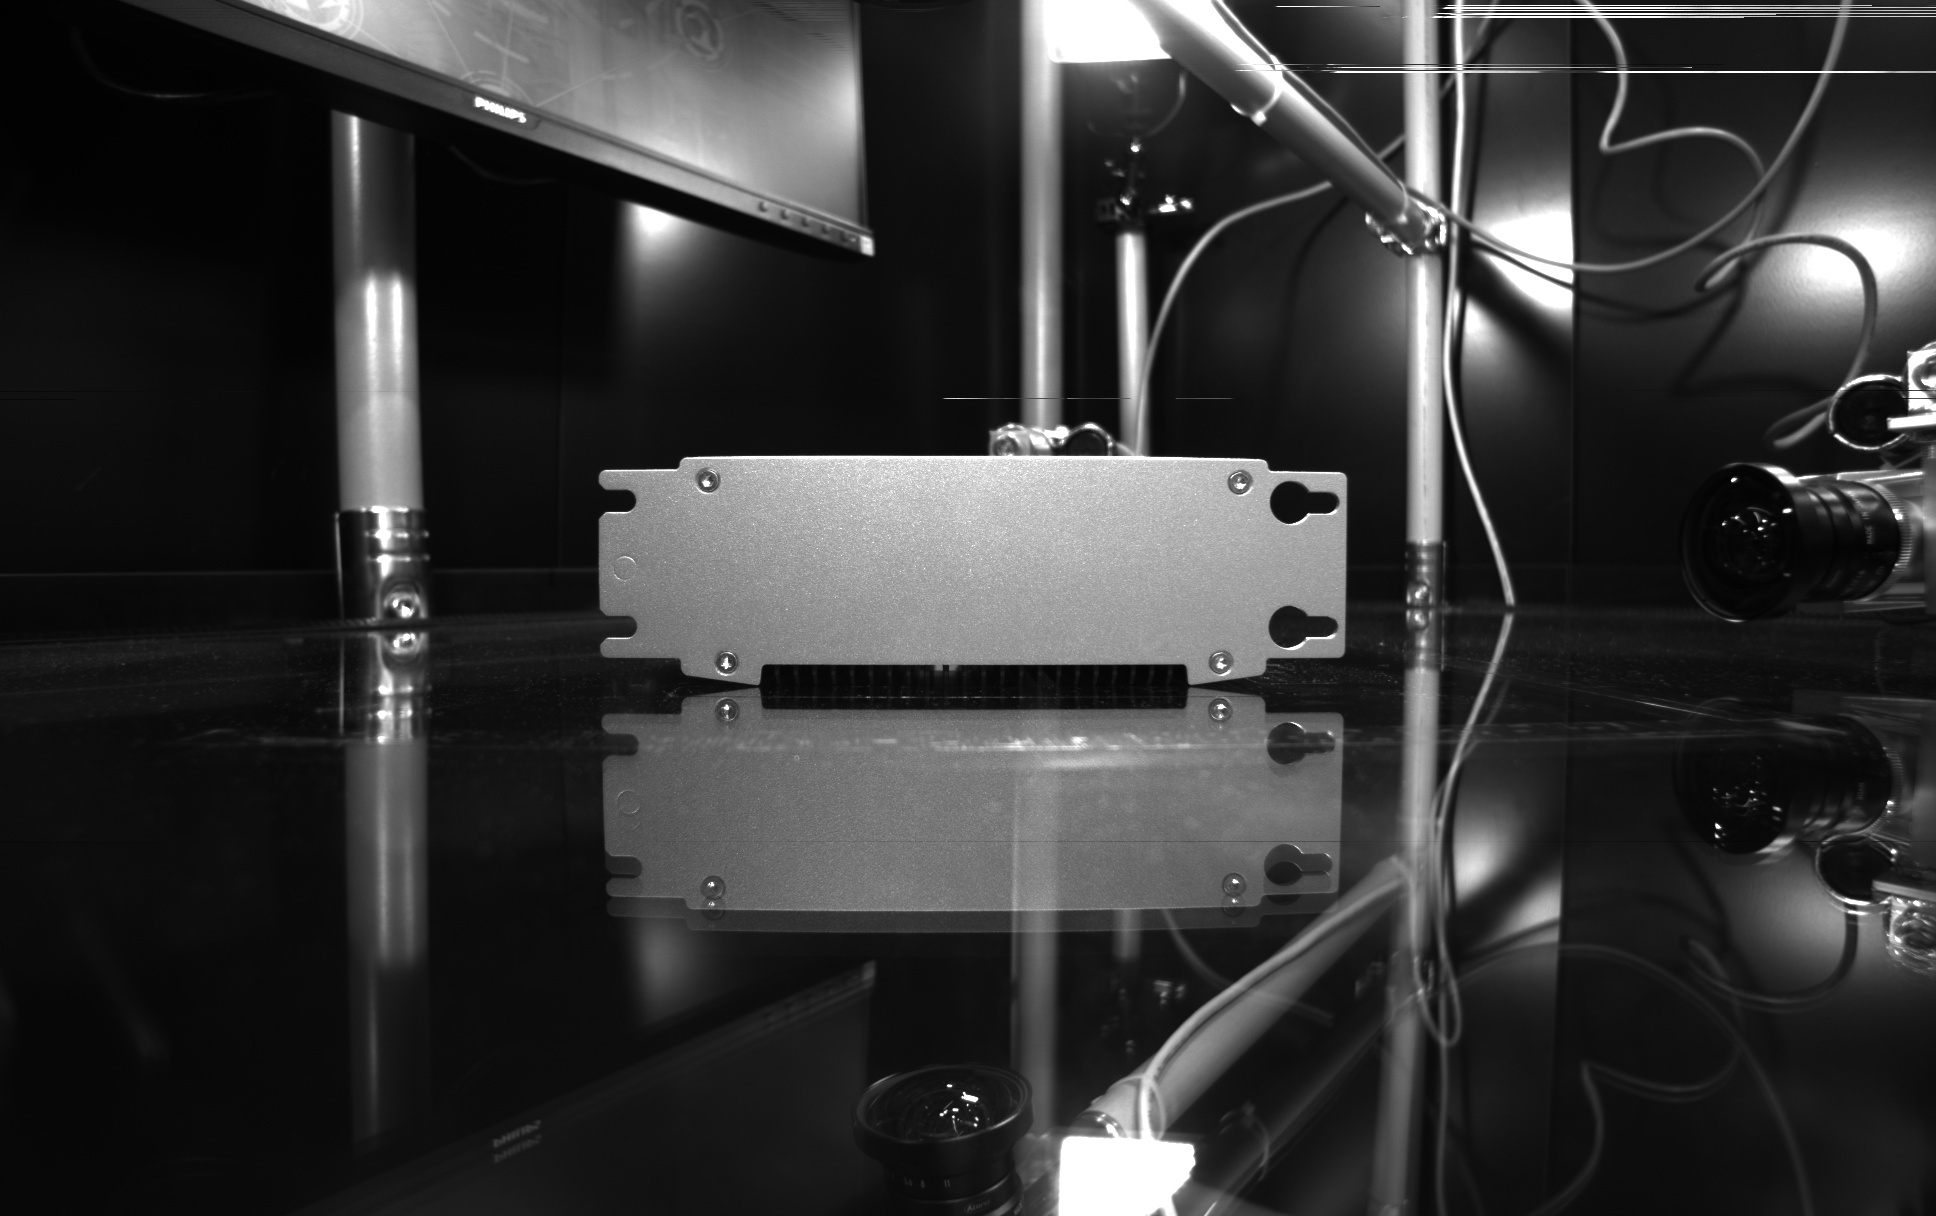CamBack: (579, 426, 1376, 688)
Schraube: (709, 642, 747, 679), (1223, 467, 1258, 500), (1205, 646, 1238, 679), (693, 467, 726, 499)
Schraube_gespiegelt: (695, 867, 733, 932), (1216, 863, 1252, 927), (1201, 692, 1237, 756), (707, 692, 744, 756)
